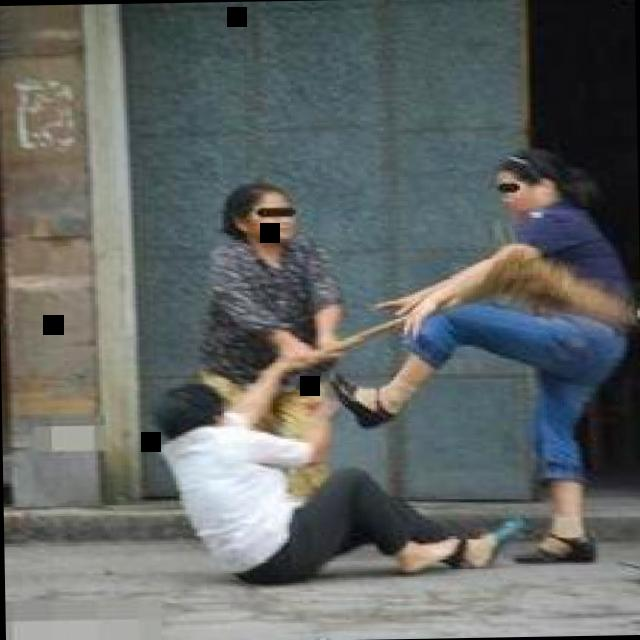Fall-Detected: (150, 327, 550, 596)
